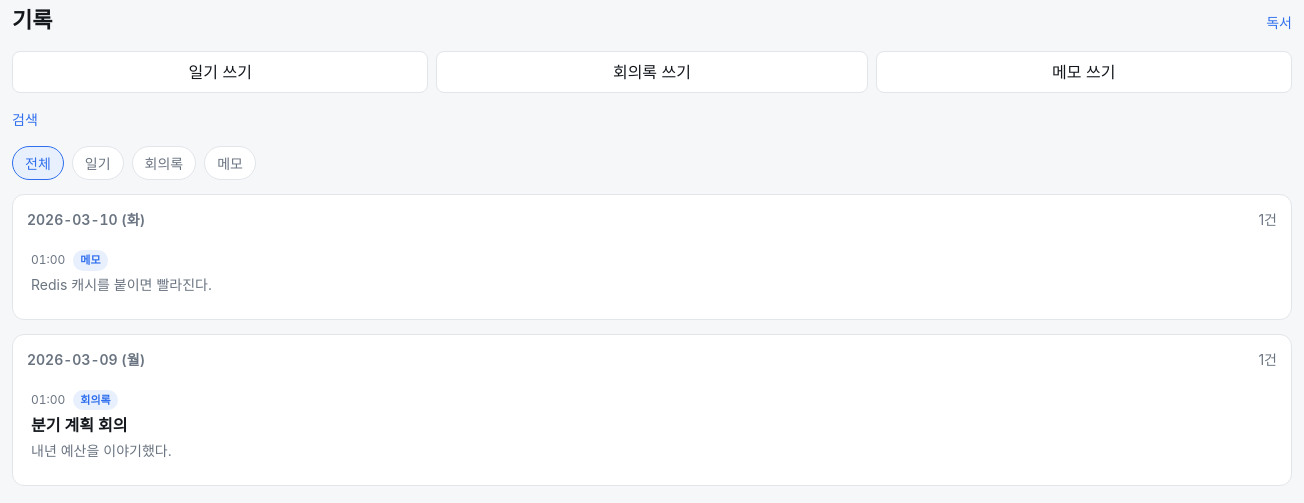
기록 검색 한 줄 › 본문으로 찾는다
Click the button "검색" at (25, 120), box [12, 107, 38, 132]
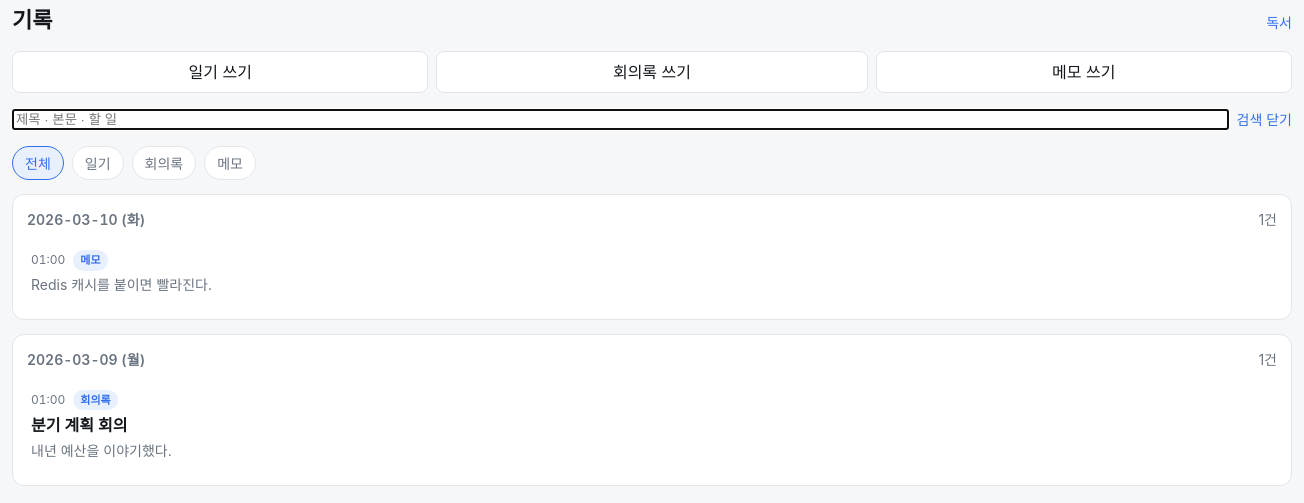
Type "캐시" into the search field named "검색어" at (620, 120), box [12, 109, 1228, 130]
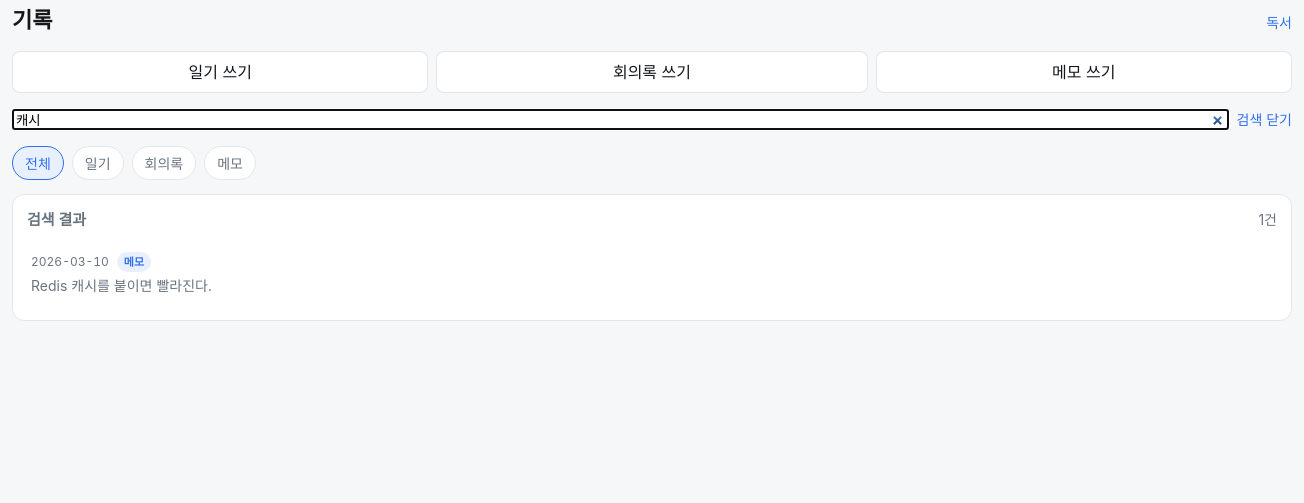
Check: the text "Redis 캐시를 붙이면 빨라진다." is shown, box [31, 275, 212, 296]
Check: the button "분기 계획 회의" is gone
